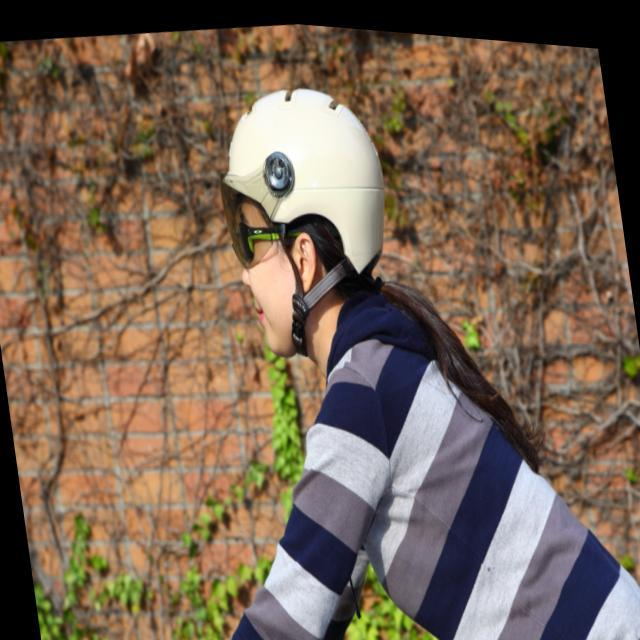Helmet: (218, 86, 388, 359)
